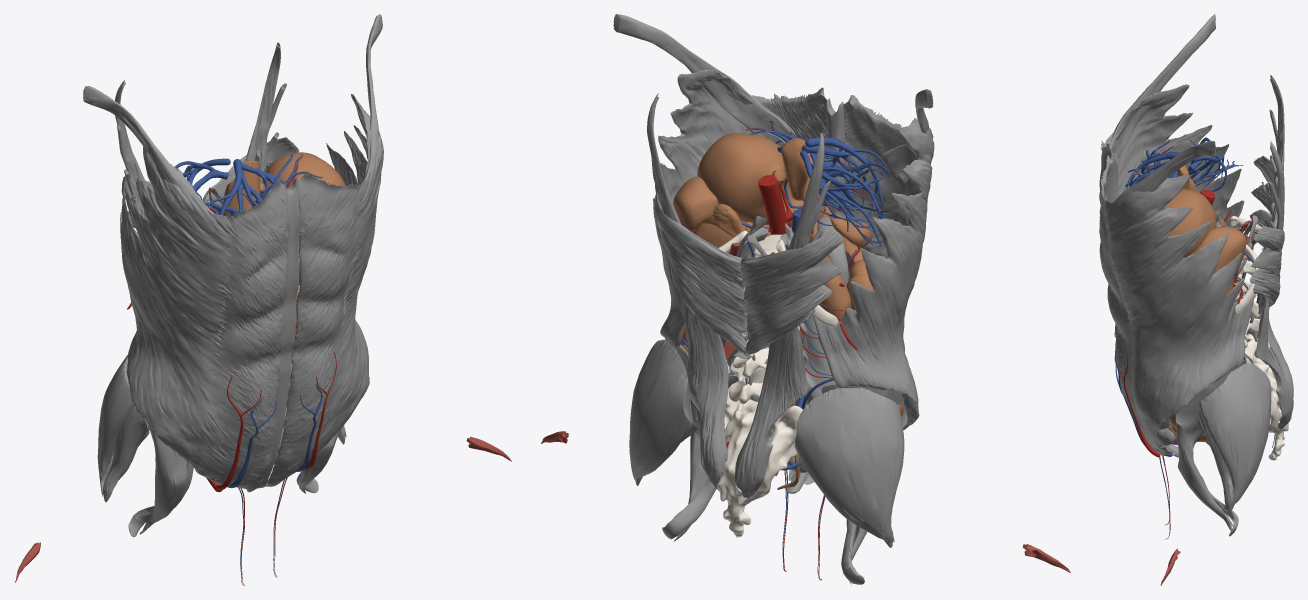
The model's file is abdomen.glb.
3 views of the same model, side by side, from view 1: azimuth 30°, elevation 25°; view 2: azimuth 150°, elevation 25°; view 3: azimuth 270°, elevation 25° (orthographic). The views are drawn at different scales.
Visible parts, largest first — view 1: right external oblique, left external oblique, linea alba, right gluteus medius, right iliacus, abdominal part of right pectoralis major, left iliocostalis lumborum, right gluteus minimus, stomach, right iliocostalis lumborum, abdominal part of left pectoralis major, left serratus posterior inferior (+2 smaller); view 2: right external oblique, right gluteus medius, left external oblique, right serratus posterior inferior, right iliocostalis lumborum, left serratus posterior inferior, left gluteus medius, left iliocostalis lumborum, stomach, sacrum, abdominal part of left pectoralis major, right psoas major (+15 smaller); view 3: left external oblique, left gluteus medius, right external oblique, left iliacus, left iliocostalis lumborum, left serratus posterior inferior, abdominal part of right pectoralis major, right iliocostalis lumborum, stomach, abdominal part of left pectoralis major, spleen, sacrum (+8 smaller).
Boxes of the visible parts, x1,y1,x2,y2 form: right external oblique: (120, 146, 288, 492); left external oblique: (265, 94, 383, 486); linea alba: (258, 177, 299, 488); right gluteus medius: (97, 355, 134, 496); right iliacus: (139, 426, 187, 534); abdominal part of right pectoralis major: (83, 86, 232, 247); left iliocostalis lumborum: (245, 42, 286, 183); right gluteus minimus: (103, 405, 149, 502); stomach: (260, 152, 345, 283); right iliocostalis lumborum: (115, 80, 147, 217); abdominal part of left pectoralis major: (356, 14, 382, 216); left serratus posterior inferior: (203, 137, 299, 207); right external oblique: (803, 95, 934, 484); right gluteus medius: (794, 387, 904, 542); left external oblique: (653, 69, 828, 480); right serratus posterior inferior: (740, 229, 844, 354); right iliocostalis lumborum: (734, 133, 831, 498); left serratus posterior inferior: (654, 191, 747, 353); left gluteus medius: (629, 339, 692, 479); left iliocostalis lumborum: (647, 93, 728, 491); stomach: (697, 132, 830, 226); sacrum: (716, 386, 802, 537); abdominal part of left pectoralis major: (613, 14, 795, 146); right psoas major: (780, 223, 864, 584); left external oblique: (1099, 155, 1253, 455); left gluteus medius: (1199, 363, 1271, 507); right external oblique: (1099, 84, 1254, 338); left iliacus: (1175, 359, 1246, 530); left iliocostalis lumborum: (1255, 141, 1293, 429); left serratus posterior inferior: (1250, 225, 1284, 314); abdominal part of right pectoralis major: (1109, 14, 1215, 159); right iliocostalis lumborum: (1256, 75, 1293, 396); stomach: (1164, 189, 1216, 257); abdominal part of left pectoralis major: (1105, 141, 1215, 228); spleen: (1189, 226, 1246, 275); sacrum: (1245, 334, 1291, 460).
Bounding box in the file's own units: 0.5987 × 0.5885 × 0.2279.
